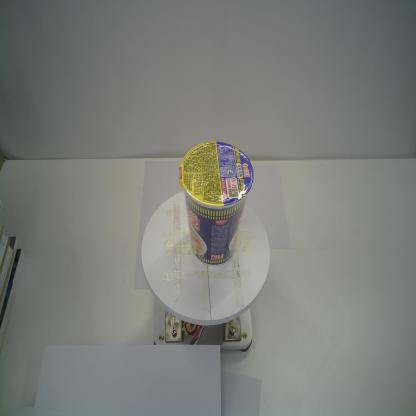Instant Noodles: (177, 136, 256, 266)
